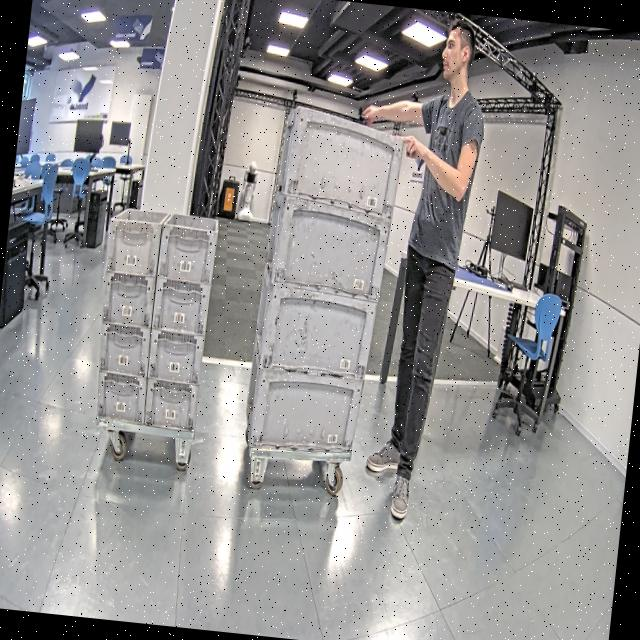Box4G: (266, 196, 389, 302), (279, 114, 405, 216), (257, 288, 376, 379), (242, 367, 360, 451)
Box8G: (156, 212, 218, 282), (103, 209, 162, 276), (151, 278, 211, 334), (145, 328, 204, 384), (100, 270, 156, 326), (142, 379, 200, 432), (93, 371, 147, 426), (98, 322, 150, 376)
